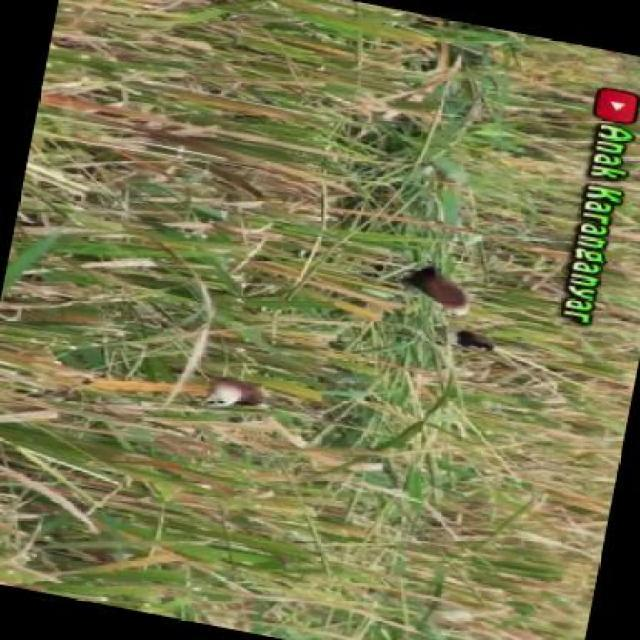Bird: (194, 364, 286, 426), (401, 256, 478, 320), (454, 322, 503, 365)
